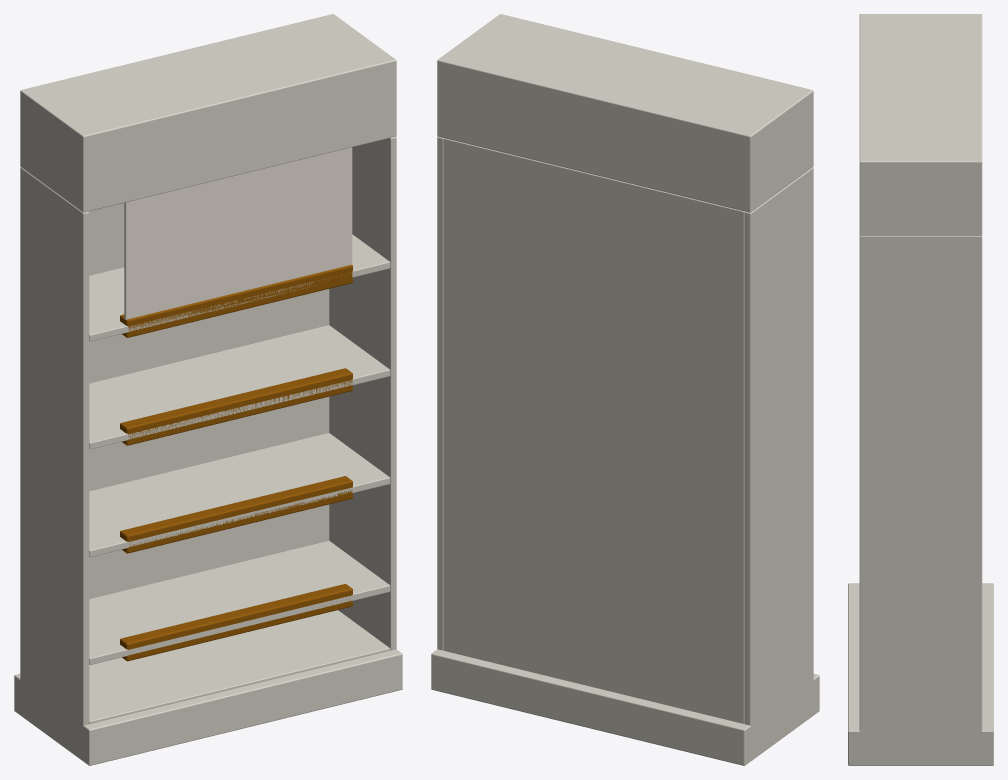
The model's file is rack.obj.
The picture shows the model from 3 angles, left to right: view 1: azimuth 30°, elevation 25°; view 2: azimuth 150°, elevation 25°; view 3: azimuth 270°, elevation 25°; orthographic projection. The views are drawn at different scales.
Visible parts, largest first — view 1: header.arch, carcass.side_1, carcass.back, poster.panel, carcass.side_2, base.plinth, shelf_1, shelf_3, shelf_2, deck.bottom, shelf.rail_3, shelf.rail_2 (+3 smaller); view 2: carcass.back, header.arch, carcass.side_1, base.plinth, carcass.side_2, shelf_1, shelf_2, shelf_3, shelf_4, deck.bottom; view 3: carcass.side_2, header.arch, base.plinth.
Part boxes in pixels (left/top/right/bottom): header.arch: left=20, top=14, right=396, bottom=212; carcass.side_1: left=20, top=167, right=89, bottom=728; carcass.back: left=89, top=203, right=329, bottom=598; poster.panel: left=124, top=147, right=352, bottom=319; carcass.side_2: left=329, top=136, right=396, bottom=650; base.plinth: left=14, top=649, right=402, bottom=765; shelf_1: left=89, top=541, right=390, bottom=664; shelf_3: left=89, top=325, right=390, bottom=449; shelf_2: left=89, top=433, right=390, bottom=557; deck.bottom: left=89, top=610, right=390, bottom=723; shelf.rail_3: left=120, top=368, right=352, bottom=445; shelf.rail_2: left=120, top=476, right=352, bottom=553; carcass.back: left=443, top=138, right=744, bottom=723; header.arch: left=437, top=14, right=813, bottom=212; carcass.side_1: left=744, top=167, right=813, bottom=728; base.plinth: left=431, top=649, right=819, bottom=765; carcass.side_2: left=437, top=136, right=443, bottom=650; shelf_1: left=443, top=586, right=744, bottom=664; shelf_2: left=443, top=478, right=744, bottom=556; shelf_3: left=443, top=370, right=744, bottom=447; shelf_4: left=443, top=263, right=744, bottom=340; deck.bottom: left=444, top=649, right=744, bottom=723; carcass.side_2: left=859, top=235, right=982, bottom=734; header.arch: left=859, top=14, right=982, bottom=235; base.plinth: left=848, top=583, right=993, bottom=765.
Size of the model in its own units: 0.9144 by 1.75 by 0.381.
